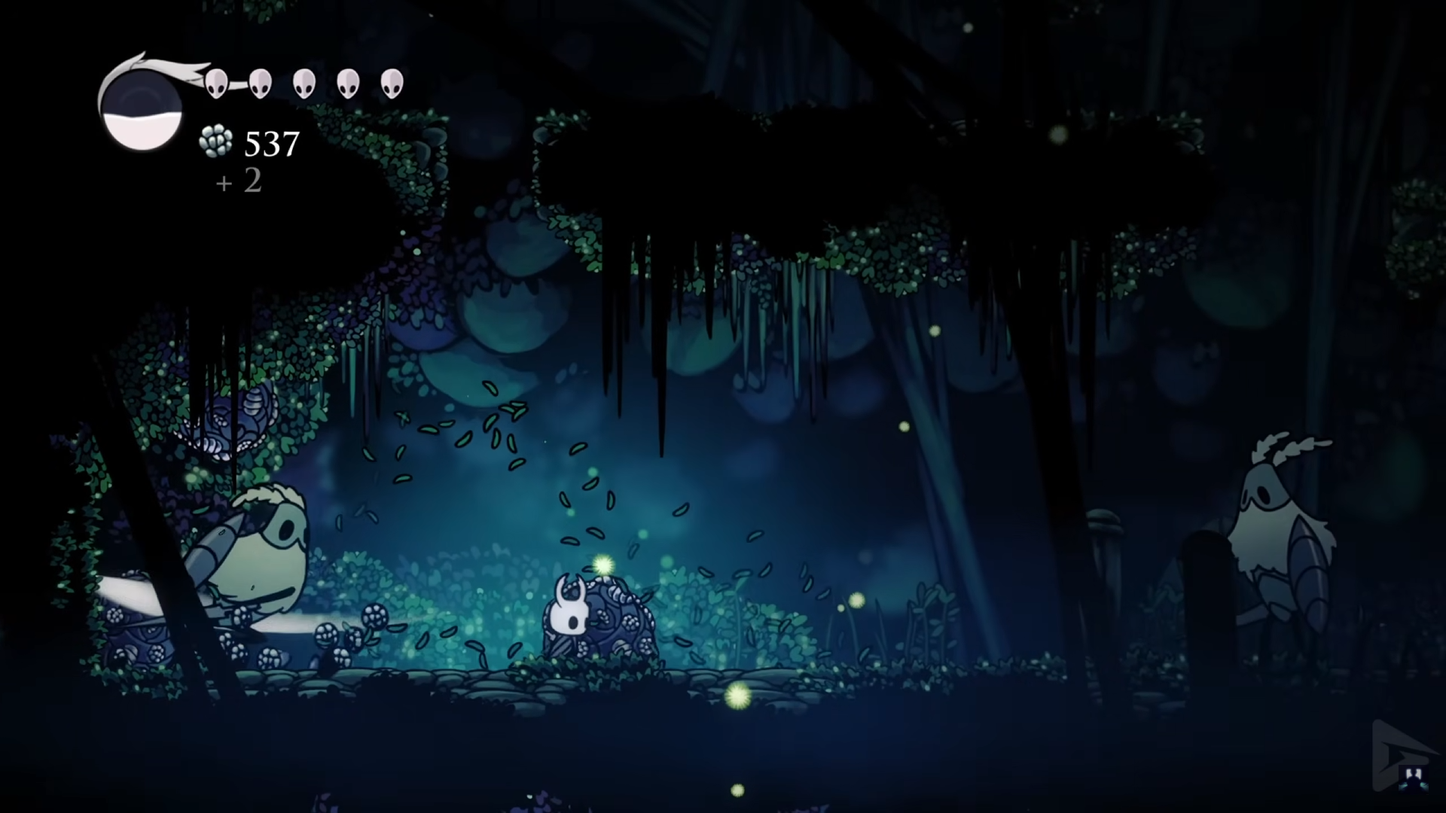HK: (536, 569, 595, 668)
